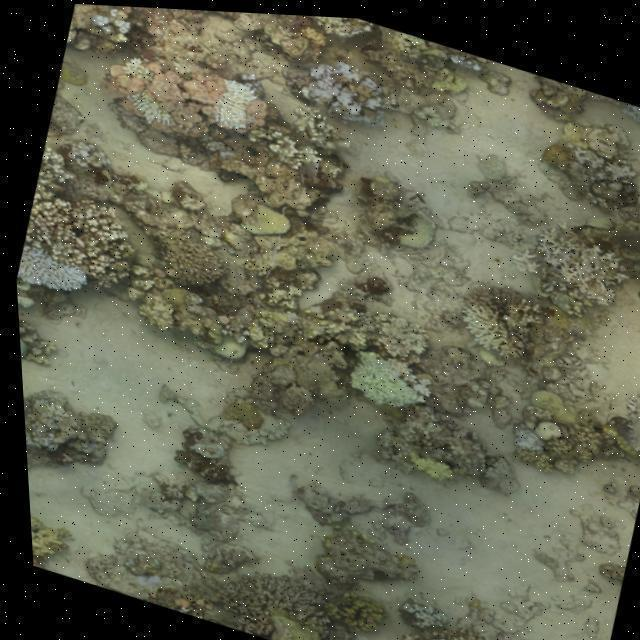Bleached Coral: (307, 59, 375, 118), (211, 71, 255, 137), (12, 260, 90, 295)
